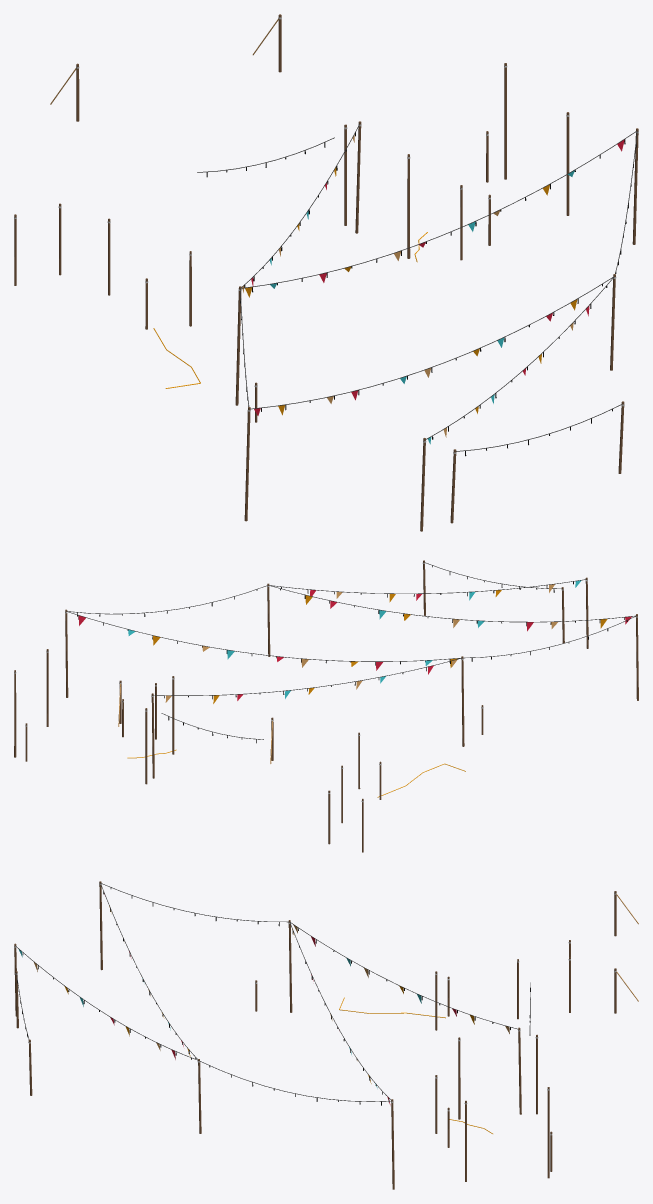
The model's file is GardenRigging.obj.
3 views of the same model, one above another, from view 1: azimuth 30°, elevation 25°; view 2: azimuth 150°, elevation 25°; view 3: azimuth 270°, elevation 25° (orthographic). The views are drawn at different scales.
Visible parts, largest first — view 1: GardenRigging; view 2: GardenRigging; view 3: GardenRigging.
Boxes of the visible parts, left/top/right/bottom form: GardenRigging: left=14, top=14, right=638, bottom=531; GardenRigging: left=14, top=560, right=638, bottom=852; GardenRigging: left=14, top=881, right=638, bottom=1189.
Size of the model in its own units: 25.65 by 7.53 by 30.6.
Materials: 1 (1 with a texture image).
